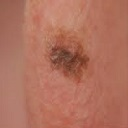Melanoma: (47, 33, 93, 80)
